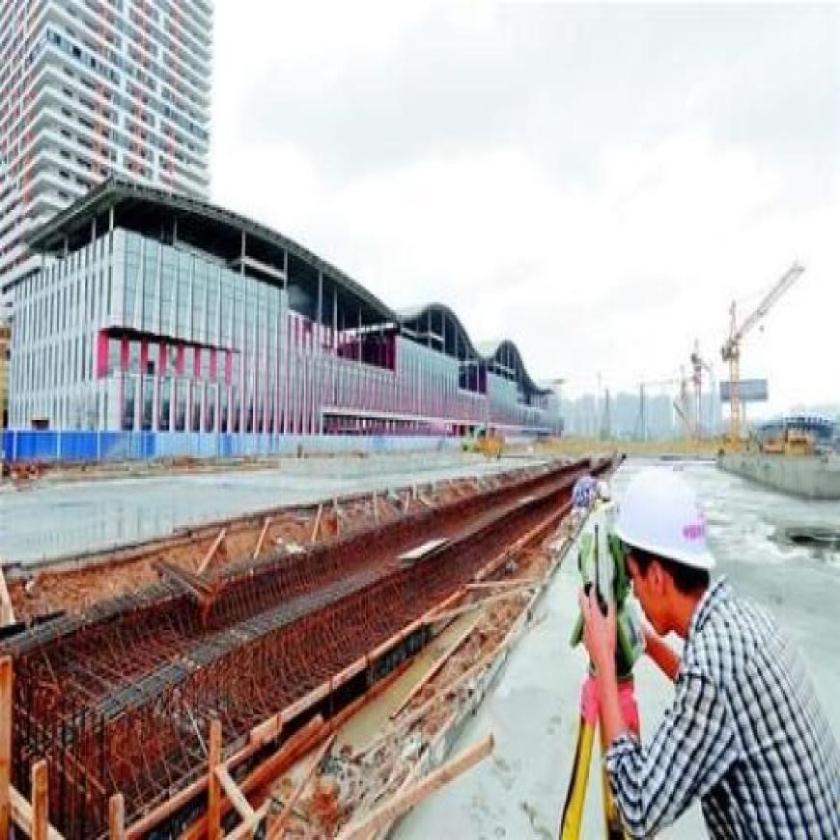Con_casco: (592, 433, 724, 644)
